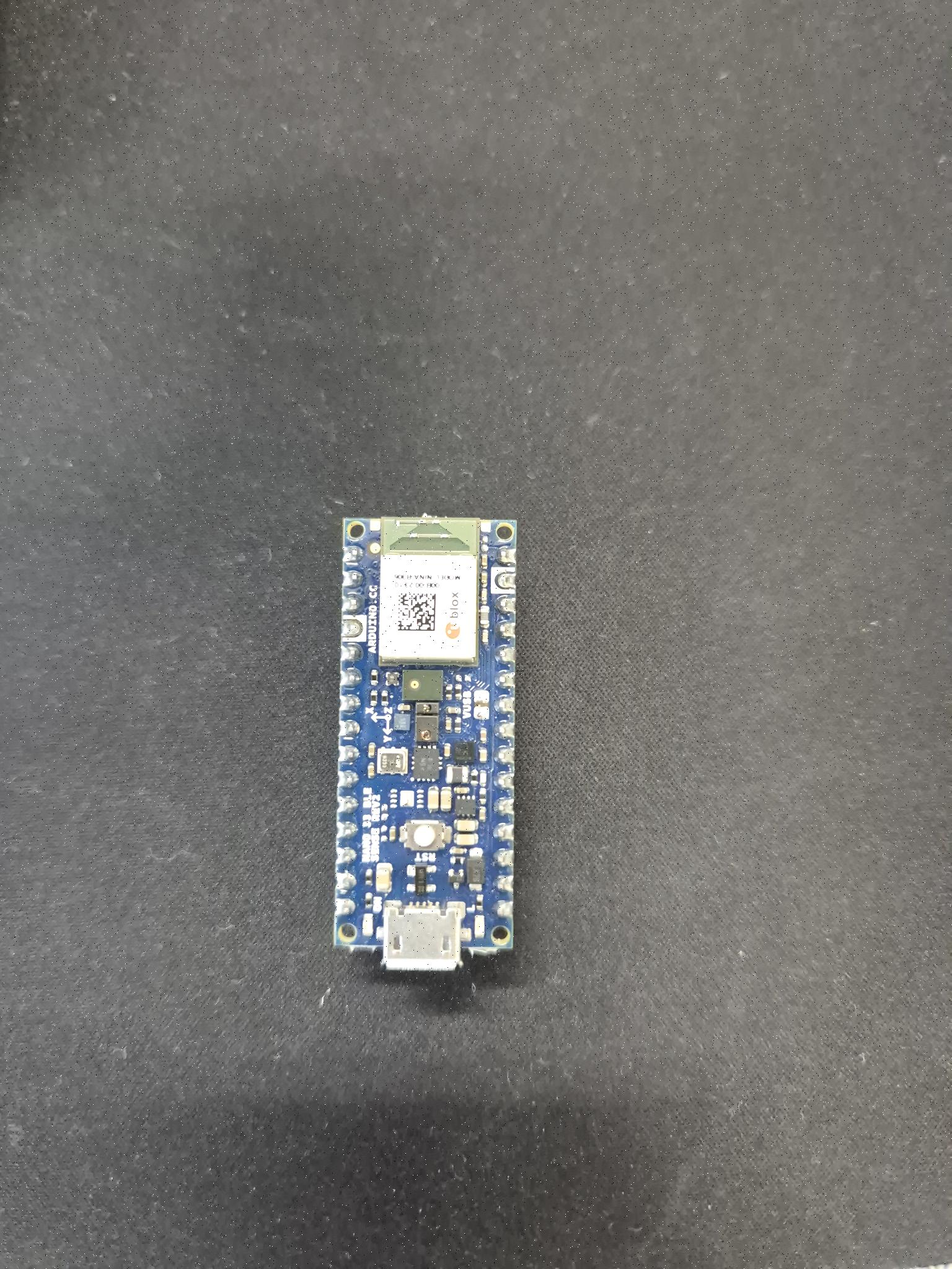arduino-nano-ble-sense: (335, 515, 516, 970)
